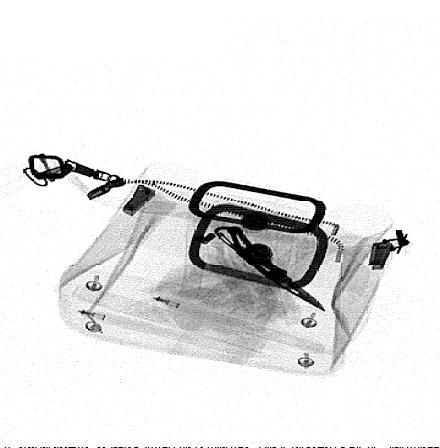Knife: (211, 226, 327, 312)
